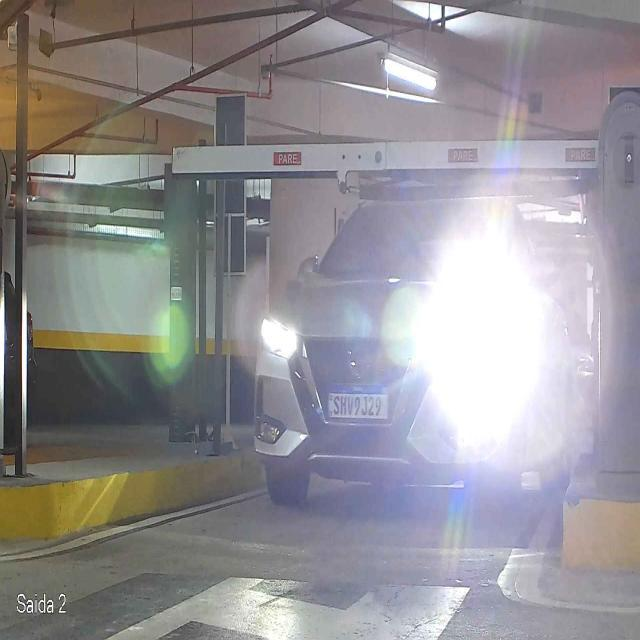mercosul_plate: (326, 385, 390, 419)
